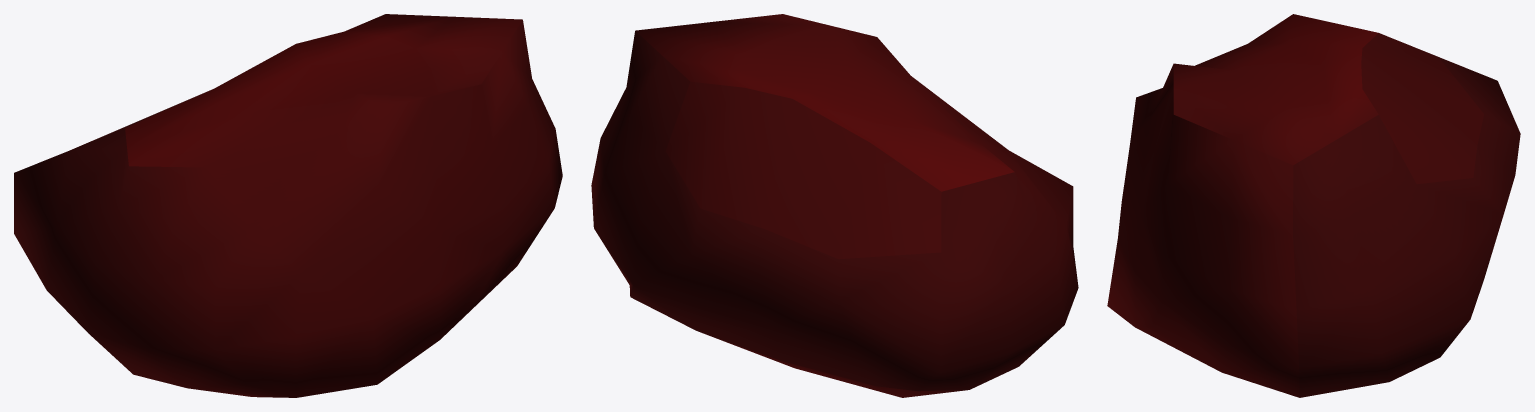
The model's file is geology-pebbles-asphalt_v2.fbx.
3 renders of one model, left to right at view 1: azimuth 30°, elevation 25°; view 2: azimuth 150°, elevation 25°; view 3: azimuth 270°, elevation 25°, orthographic. The views are drawn at different scales.
Visible parts, largest first — view 1: Asphalt_v2; view 2: Asphalt_v2; view 3: Asphalt_v2.
Boxes of the visible parts, x1,y1,x2,y2 form: Asphalt_v2: (14, 14, 562, 397); Asphalt_v2: (591, 14, 1078, 397); Asphalt_v2: (1107, 14, 1520, 397).
Size of the model in its own units: 8.27 by 4.62 by 5.73.
